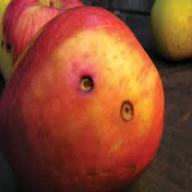apple: (26, 22, 162, 172)
